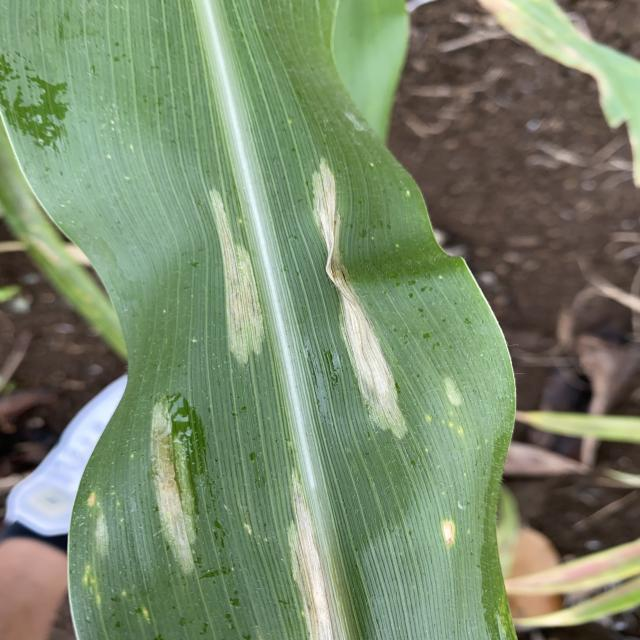Corn_Leaf_Blight: (71, 138, 525, 640)
